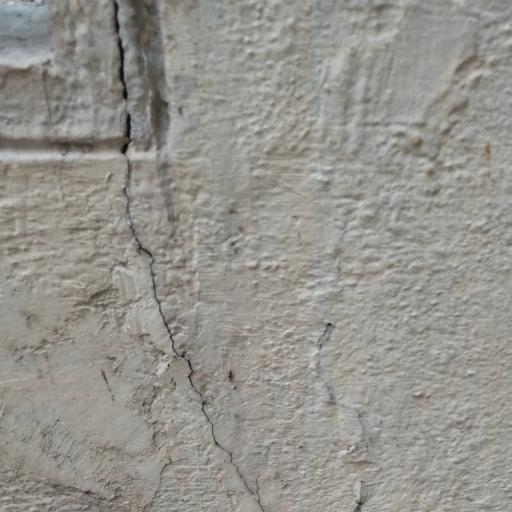minor_crack: (89, 0, 284, 510)
